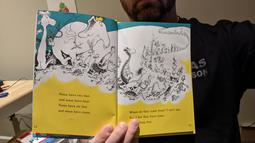text block: (126, 107, 183, 127), (56, 90, 97, 117)
